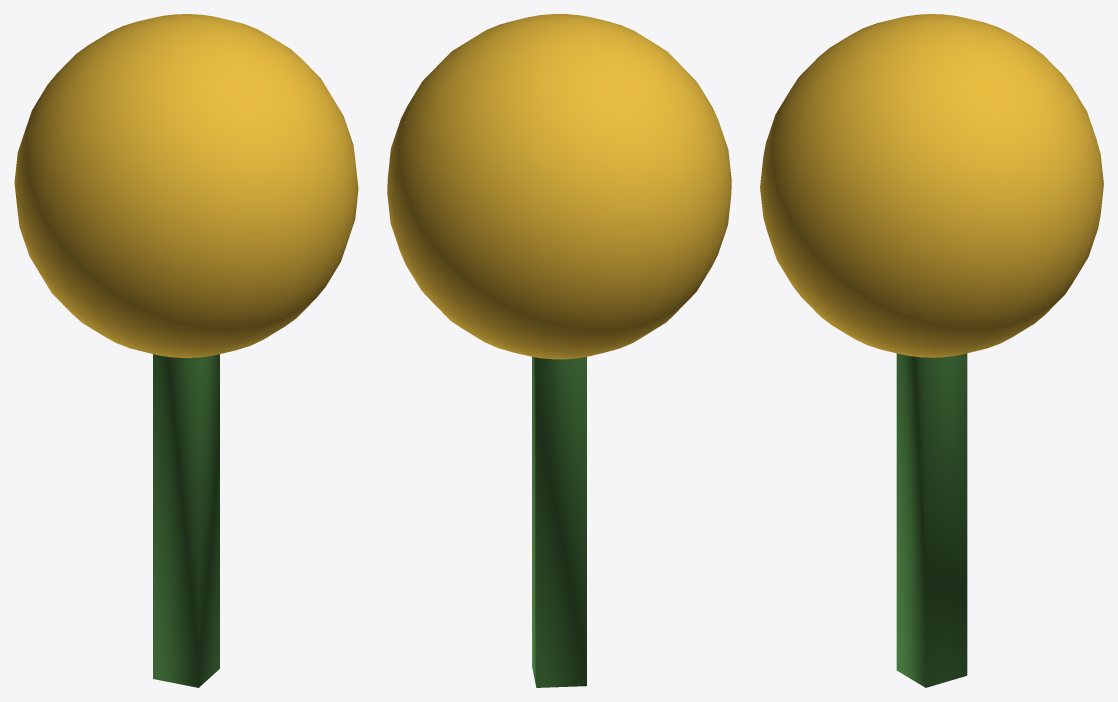
The model's file is Grass_02.fbx.
The picture shows the model from 3 angles, left to right: view 1: azimuth 30°, elevation 25°; view 2: azimuth 150°, elevation 25°; view 3: azimuth 270°, elevation 25°; orthographic projection.
Parts seen in each view (by area): view 1: Grass_02; view 2: Grass_02; view 3: Grass_02.
Part boxes in pixels (x1=…): Grass_02: x1=14, y1=14, x2=358, y2=687; Grass_02: x1=387, y1=14, x2=731, y2=687; Grass_02: x1=760, y1=14, x2=1103, y2=687.
Bounding box in the file's own units: 32.79 × 67.65 × 32.79.
